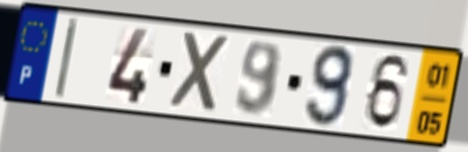4: (104, 25, 151, 107)
6: (361, 52, 411, 133)
9: (301, 41, 355, 131), (233, 38, 283, 120)
I: (51, 15, 82, 102)
X: (167, 28, 235, 117)
